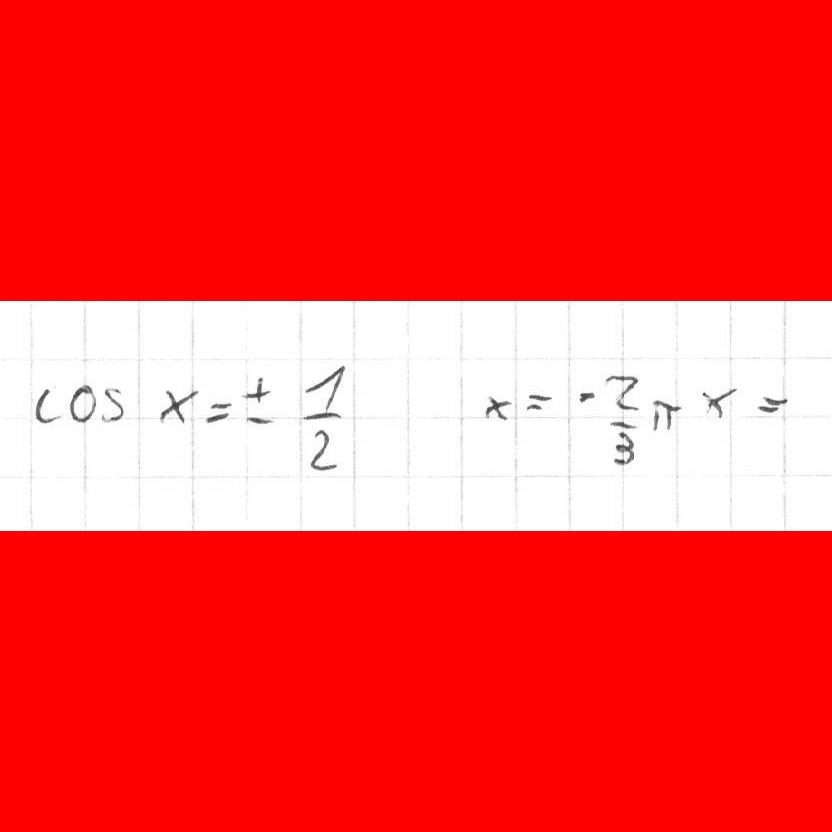Char: (302, 364, 349, 411), (601, 367, 643, 415), (156, 385, 198, 424), (700, 385, 738, 423), (308, 428, 340, 472), (647, 396, 685, 432), (33, 386, 65, 424), (481, 392, 516, 424), (70, 382, 96, 424), (611, 429, 639, 468), (238, 374, 271, 405), (100, 384, 125, 424), (522, 385, 556, 413), (753, 393, 792, 417), (204, 398, 234, 425), (302, 409, 344, 424), (604, 415, 641, 432), (245, 412, 276, 428), (575, 385, 598, 405)
